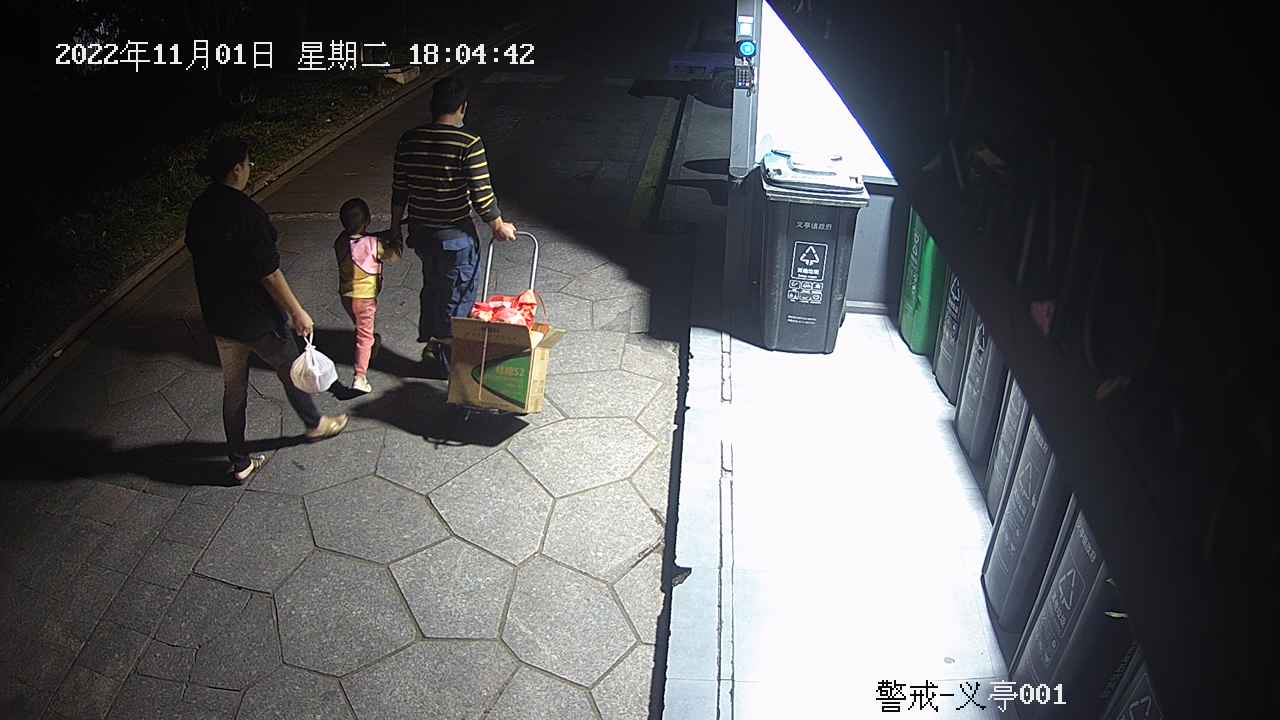garbage-bag: (289, 327, 339, 395)
person: (182, 134, 351, 488), (388, 76, 516, 379), (332, 198, 403, 395)
zhizhipin: (442, 290, 567, 418)
